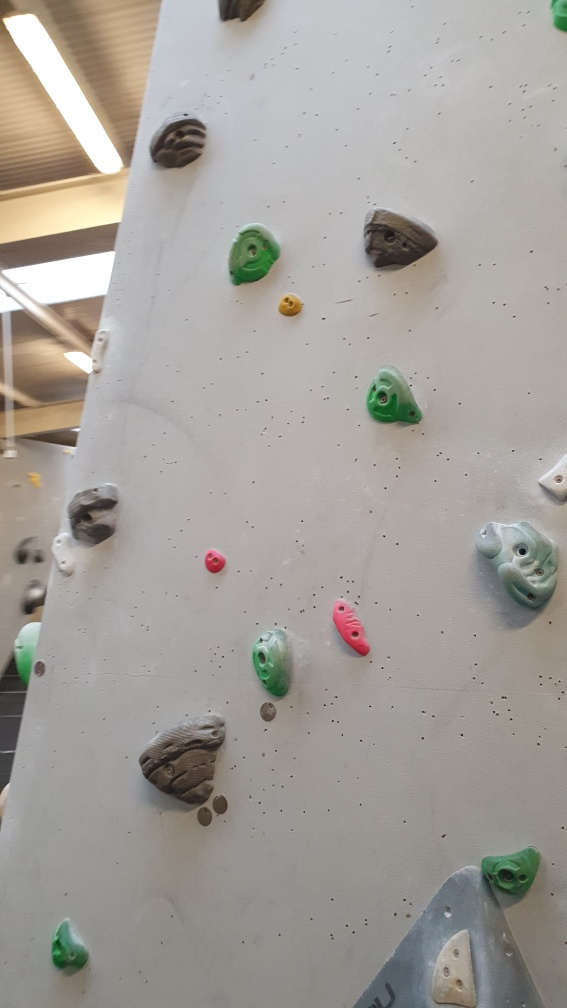Crimp: (330, 599, 366, 656), (539, 446, 566, 509), (88, 326, 113, 374), (54, 530, 77, 578)
Hand Start: (259, 699, 280, 723), (196, 803, 216, 826), (209, 791, 227, 815), (33, 662, 45, 678)
Jug: (138, 705, 227, 801), (476, 521, 560, 612), (360, 207, 438, 270), (226, 224, 289, 288), (70, 478, 124, 547), (149, 110, 206, 173), (365, 363, 423, 424), (250, 621, 294, 700)
